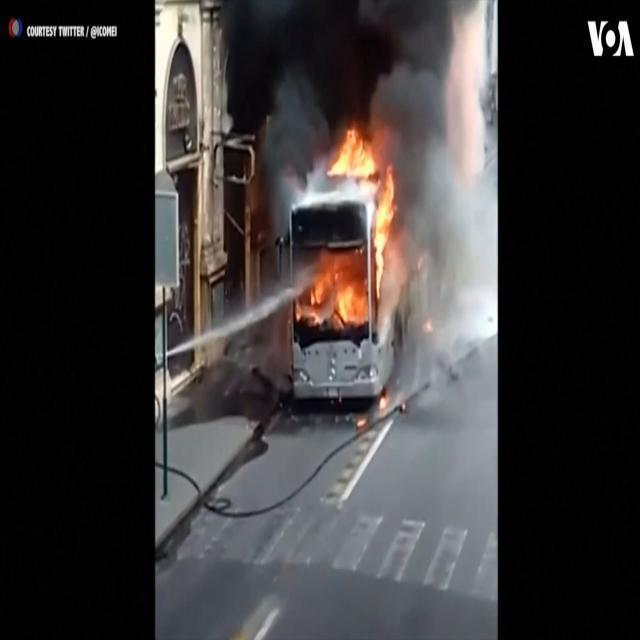fire: (298, 101, 410, 332)
